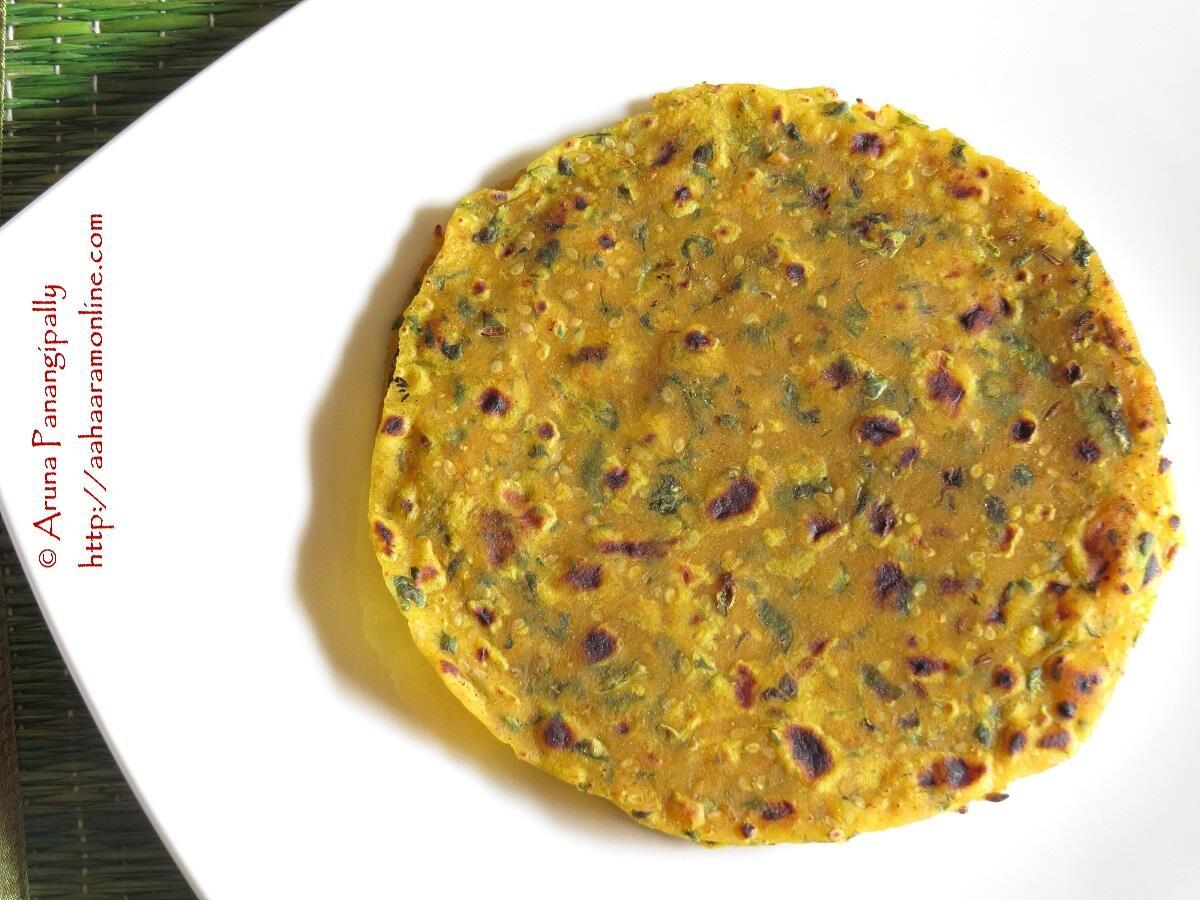thepla: (381, 103, 1130, 824)
